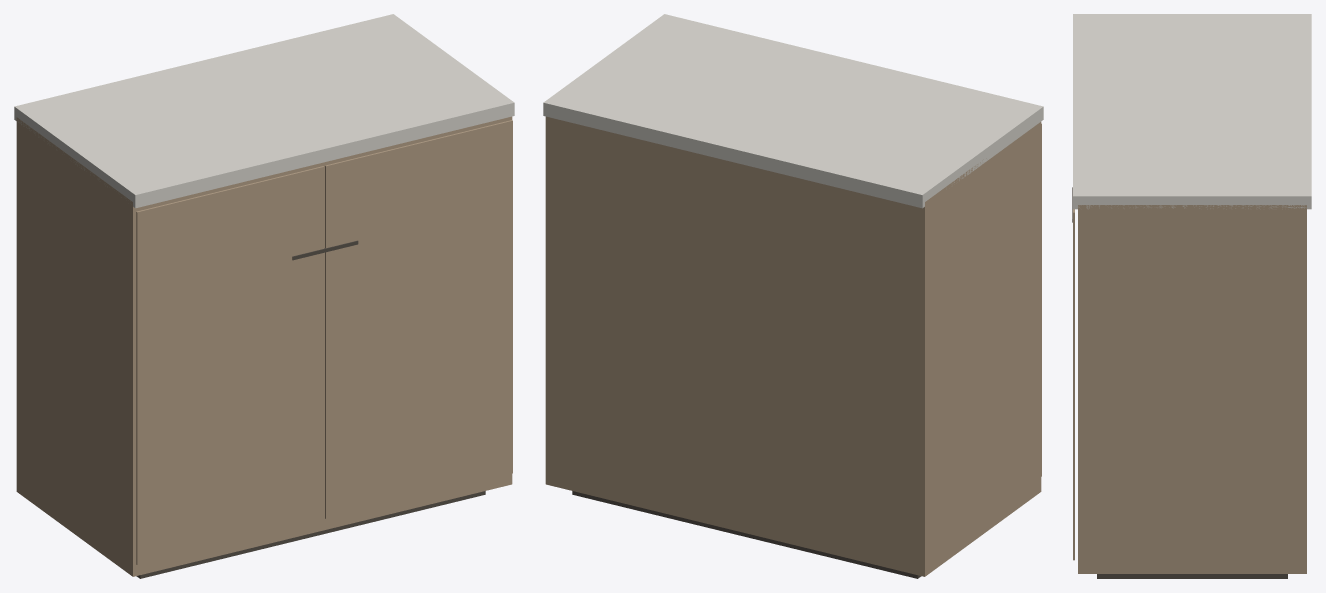
File: original-laundry-cabinet.glb
3 views of the same model, side by side, from view 1: azimuth 30°, elevation 25°; view 2: azimuth 150°, elevation 25°; view 3: azimuth 270°, elevation 25° (orthographic).
Parts seen in each view (by area): view 1: LaundryFoldingCabinet; view 2: LaundryFoldingCabinet; view 3: LaundryFoldingCabinet.
Part boxes in pixels (x1,y1,x2,y2): LaundryFoldingCabinet: [14, 14, 514, 578]; LaundryFoldingCabinet: [543, 14, 1043, 578]; LaundryFoldingCabinet: [1072, 14, 1311, 578].
Bounding box in the file's own units: 0.9 × 0.9 × 0.5.
